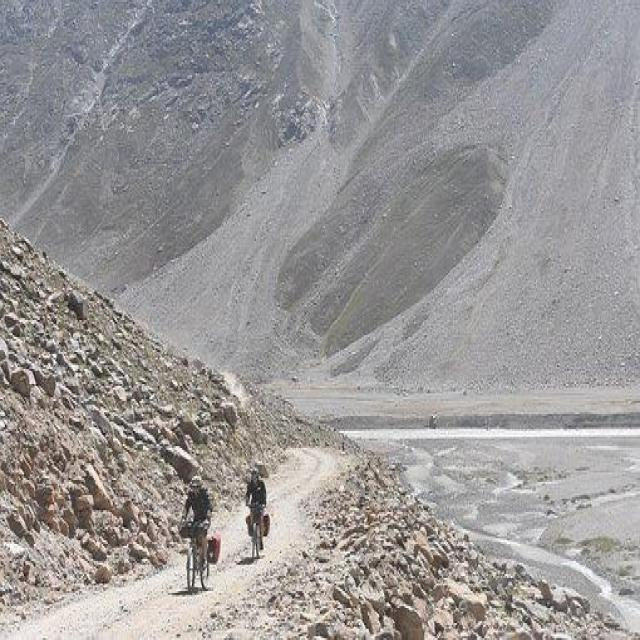bikerider: (169, 470, 226, 594), (237, 461, 276, 567)
